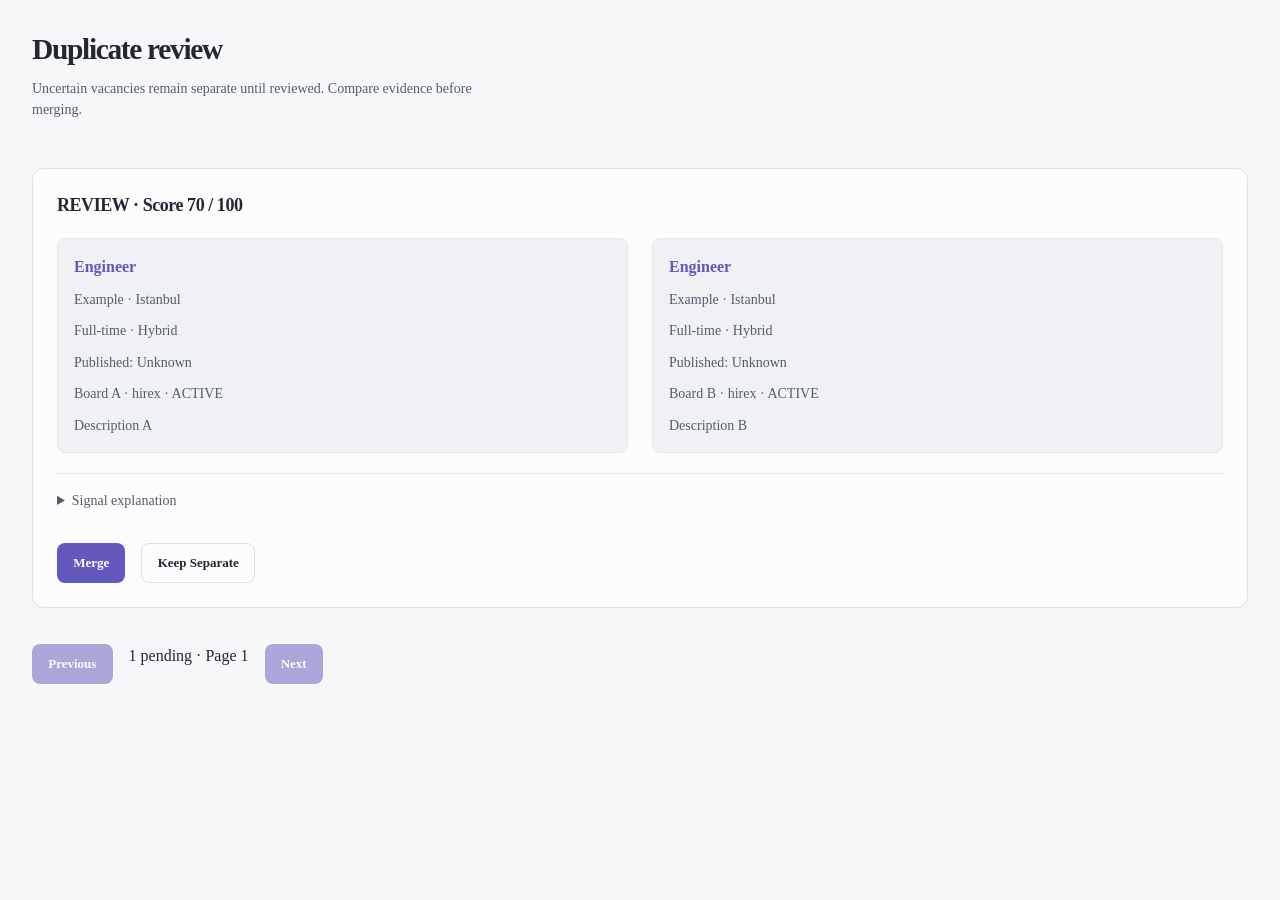
Scenario: renders both vacancies and signals, and requires explicit merge confirmation
expect the text "Description A" is shown: met, box left=74, top=418, right=152, bottom=433
expect the text "Description B" is shown: met, box left=669, top=418, right=747, bottom=433
Click the button "Merge" at (91, 563), box left=57, top=543, right=126, bottom=583
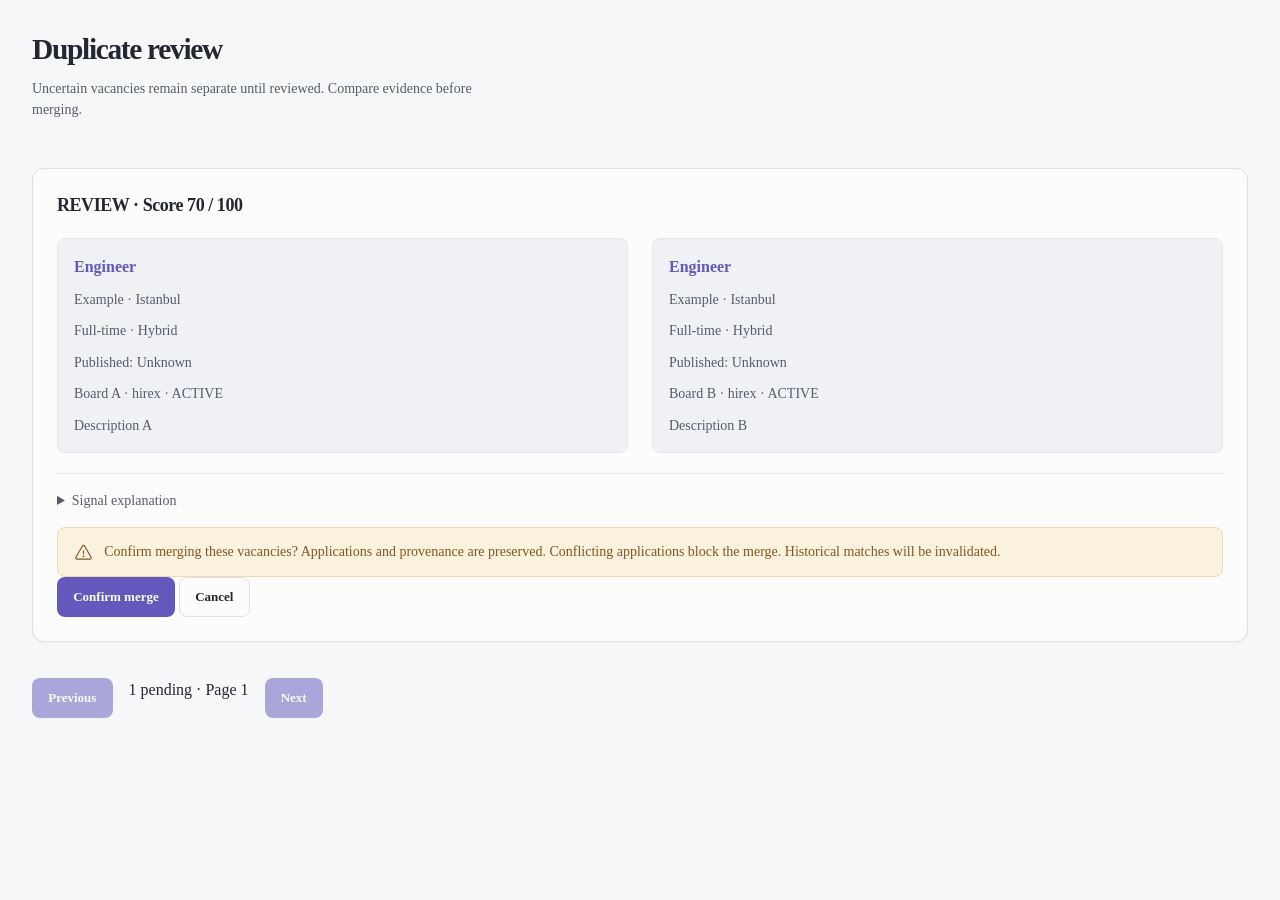
Click the button "Cancel" at (214, 597), box left=179, top=577, right=250, bottom=617
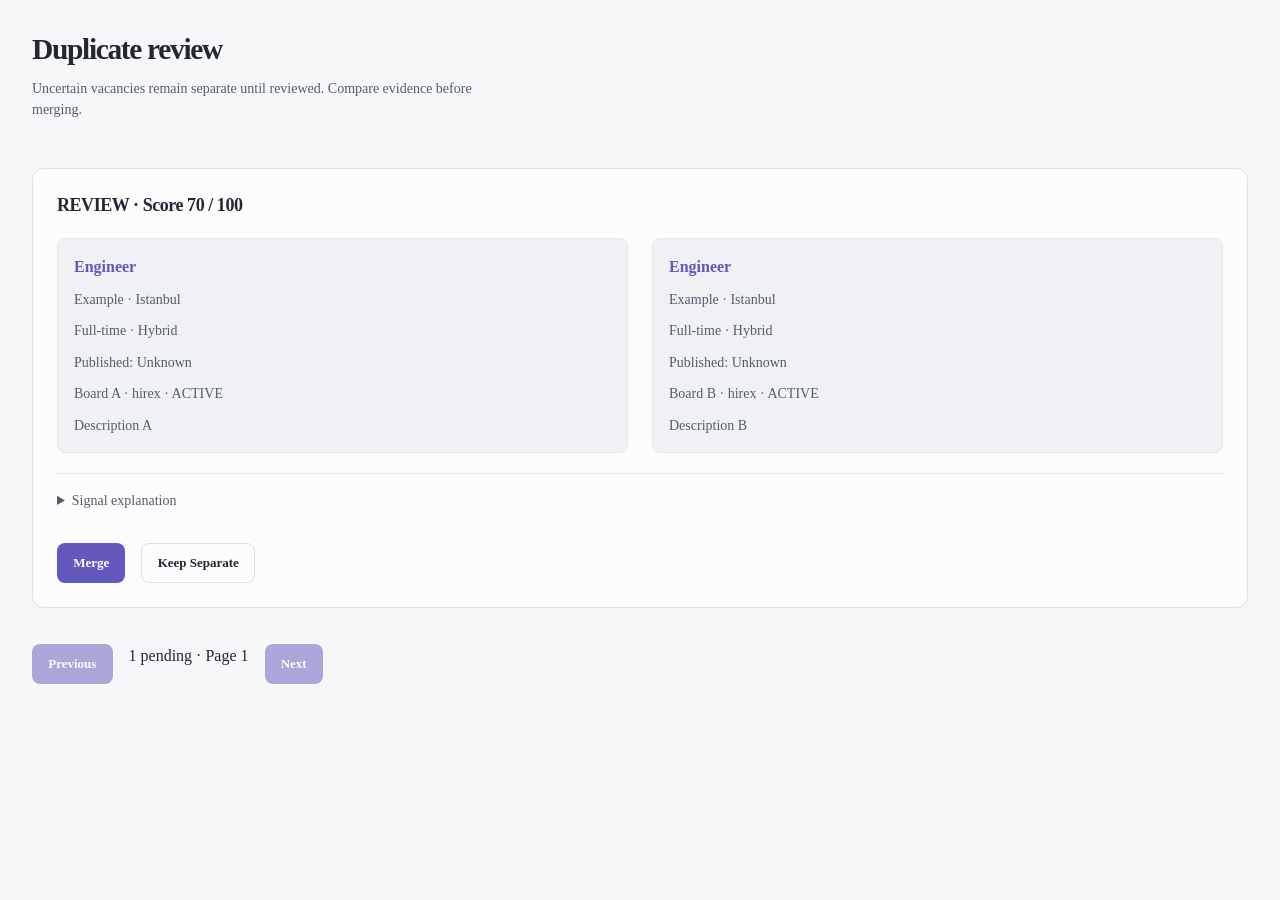
Click the button "Merge" at (91, 563), box left=57, top=543, right=126, bottom=583
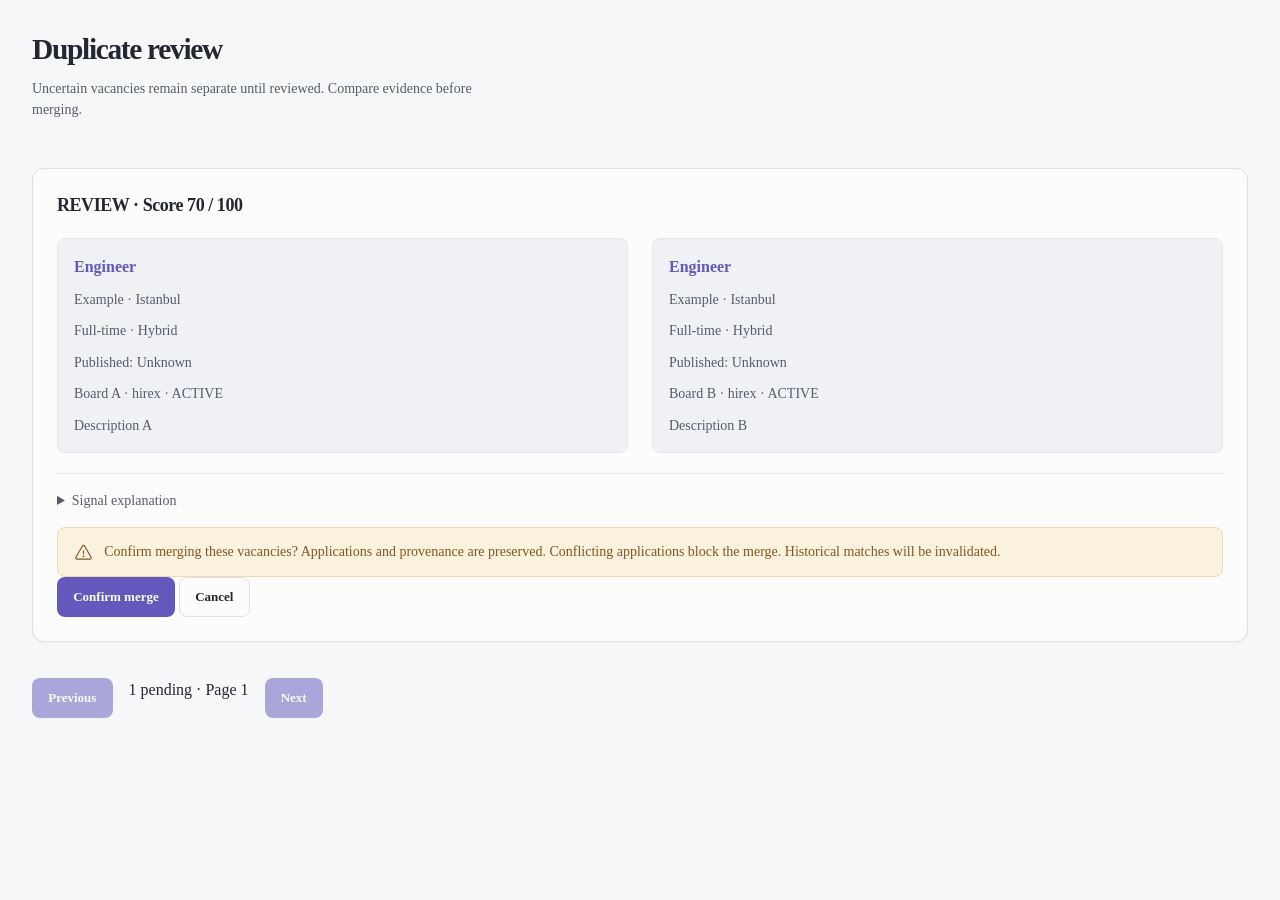
Click the button "Confirm merge" at (116, 597), box left=57, top=577, right=175, bottom=617
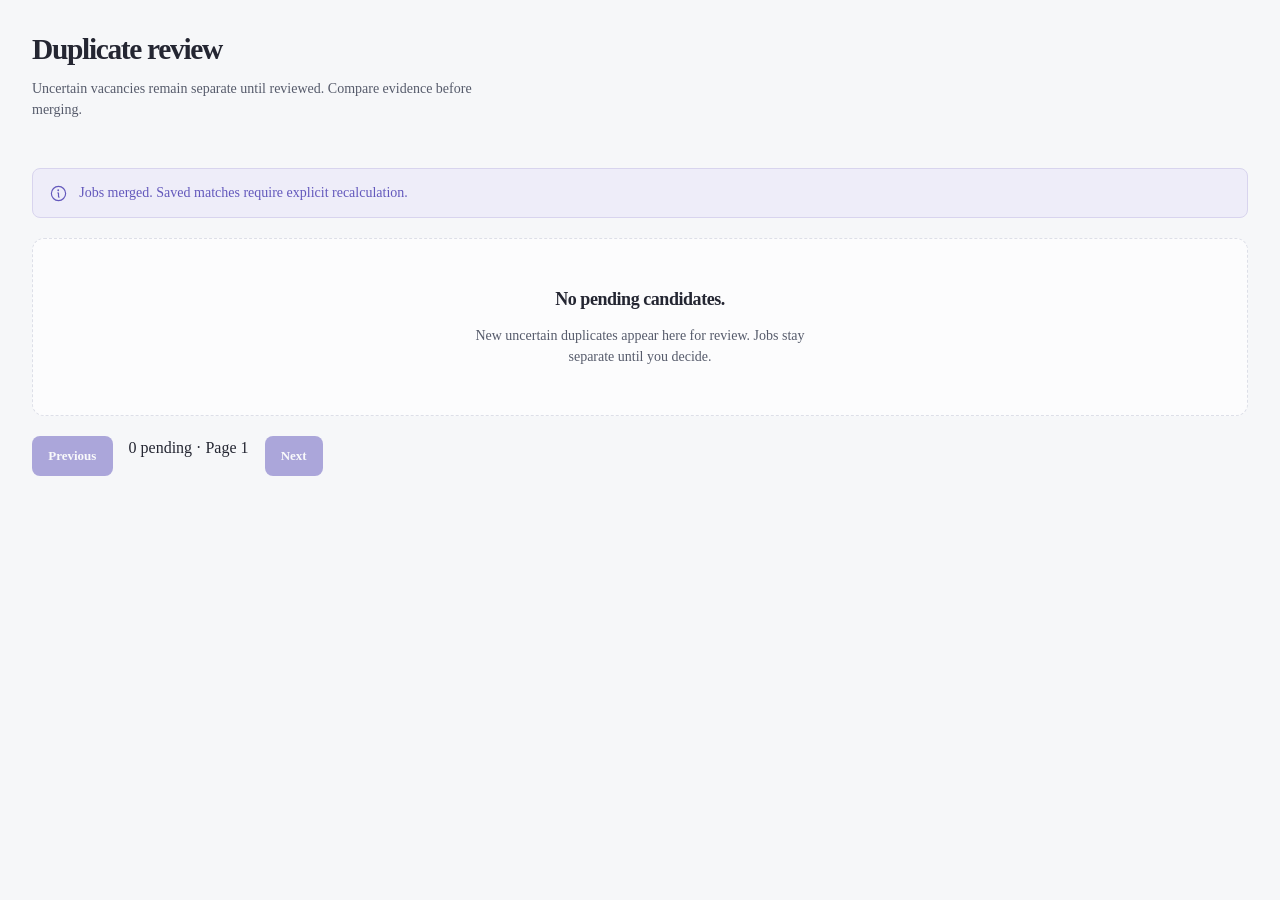
expect the text "Jobs merged. Saved matches require explicit recalculation." is shown: met, box left=79, top=182, right=408, bottom=203
expect the heading "No pending candidates." is shown: met, box left=555, top=287, right=725, bottom=312
